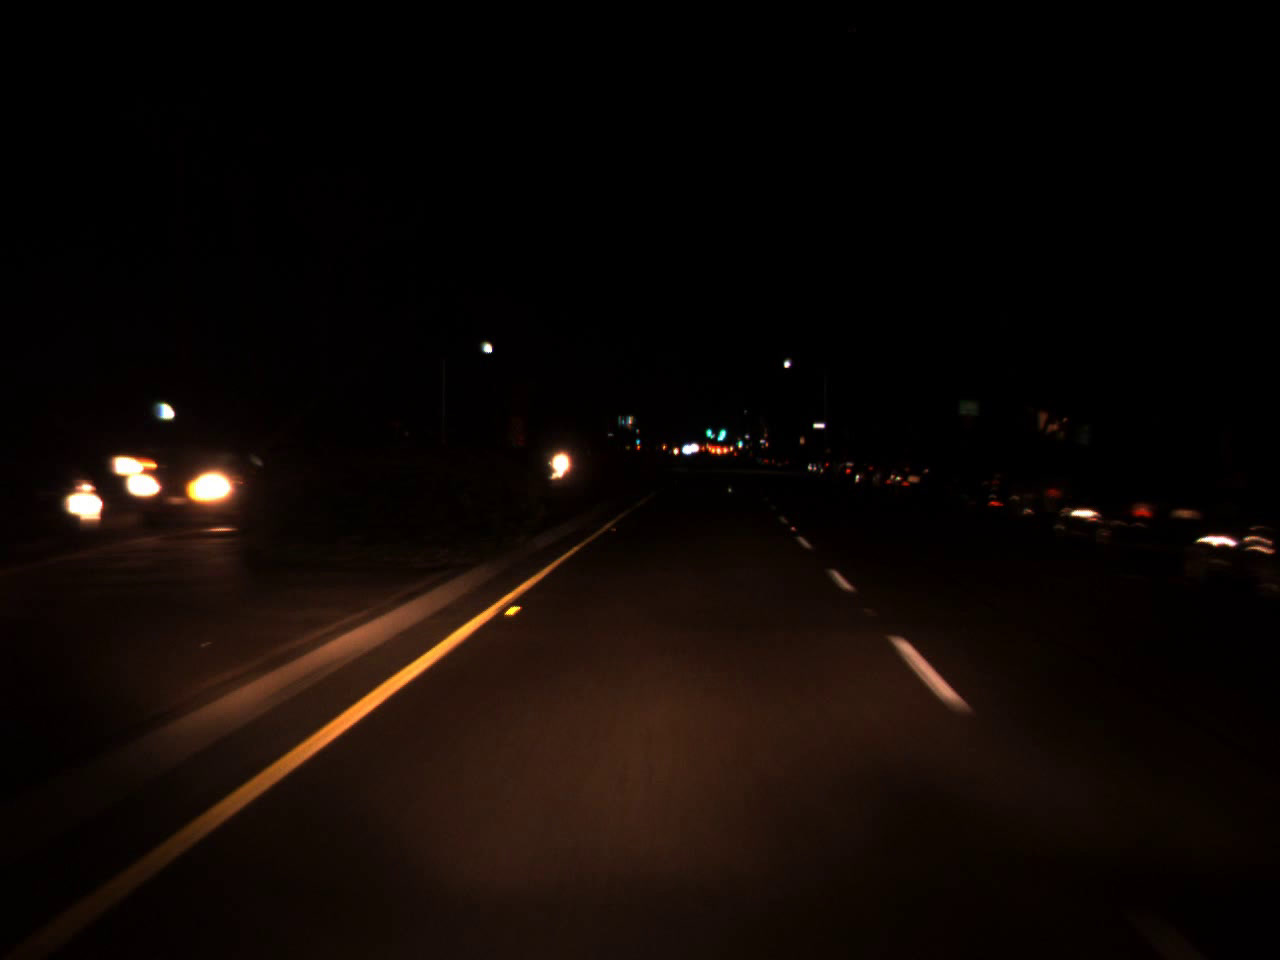go: (714, 415, 726, 445), (734, 432, 743, 447), (705, 421, 712, 439)
